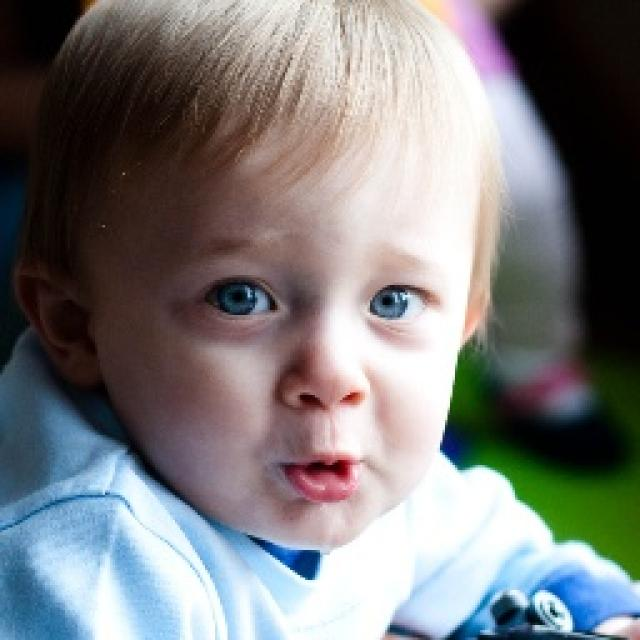earlobe: (69, 346, 100, 390)
eye: (197, 274, 278, 318), (367, 284, 437, 322)
nose: (278, 388, 380, 444)
wholeear: (10, 259, 100, 390)
